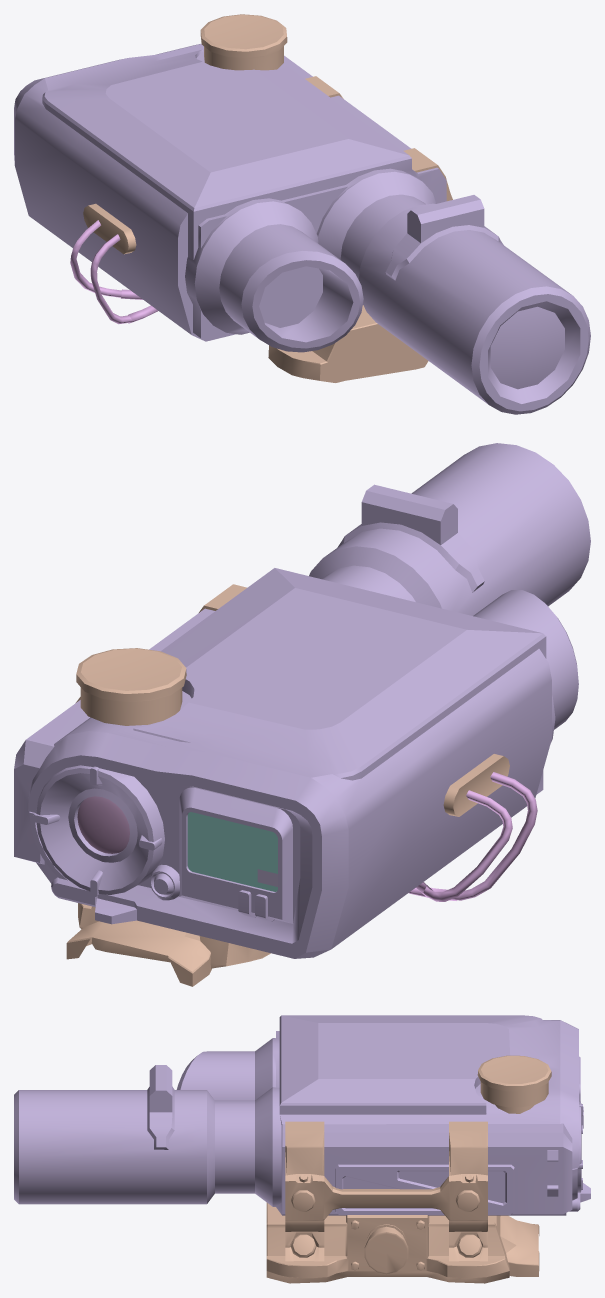
File: SRS99-S5 AM Scope.fbx
3 views of the same model, one above another, from view 1: azimuth 30°, elevation 25°; view 2: azimuth 150°, elevation 25°; view 3: azimuth 270°, elevation 25° (orthographic). The views are drawn at different scales.
Parts seen in each view (by area): view 1: v_srs99s4am_srs_body.004; view 2: v_srs99s4am_srs_body.004; view 3: v_srs99s4am_srs_body.004.
Boxes of the visible parts, <box> form: v_srs99s4am_srs_body.004: <box>14,14,590,414</box>; v_srs99s4am_srs_body.004: <box>14,443,590,986</box>; v_srs99s4am_srs_body.004: <box>14,1015,590,1283</box>.
Bounding box in the file's own units: 438 × 307 × 815.
